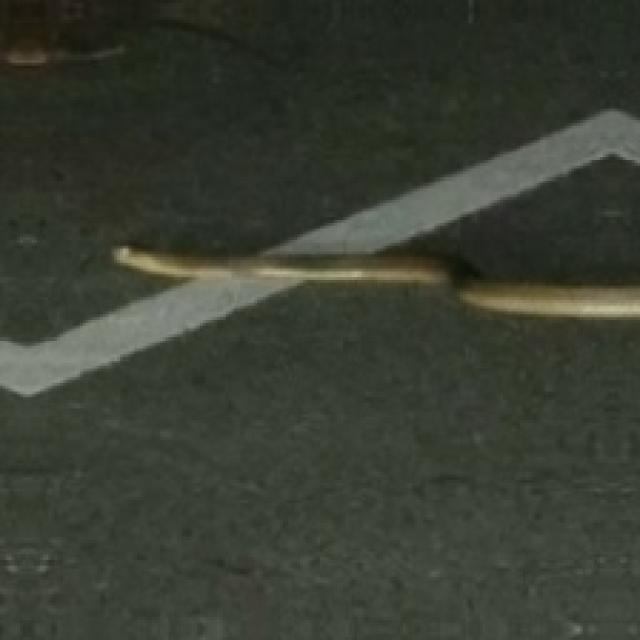king cobra: (111, 246, 449, 283), (457, 283, 637, 317)
